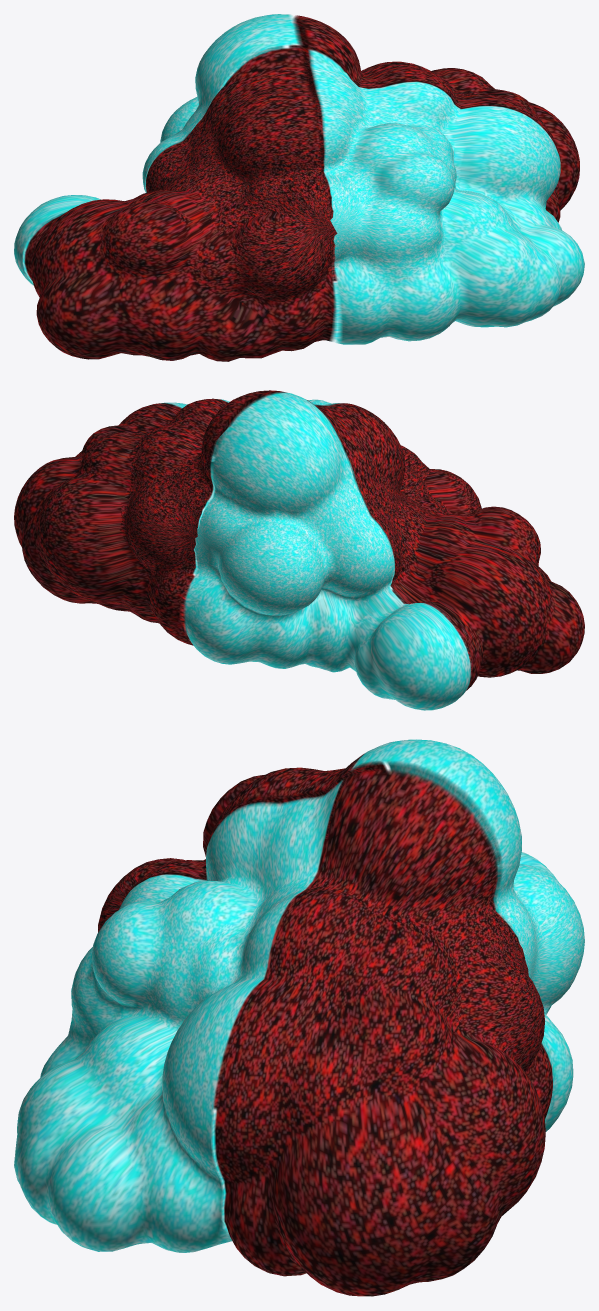
The picture shows the model from 3 angles, top to bottom: view 1: azimuth 30°, elevation 25°; view 2: azimuth 150°, elevation 25°; view 3: azimuth 270°, elevation 25°; orthographic projection. The views are drawn at different scales.
Parts seen in each view (by area): view 1: SM_VFX_Cloud_LOD0; view 2: SM_VFX_Cloud_LOD0; view 3: SM_VFX_Cloud_LOD0.
Part boxes in pixels (<box>): SM_VFX_Cloud_LOD0: <box>14,14,584,361</box>; SM_VFX_Cloud_LOD0: <box>14,390,584,710</box>; SM_VFX_Cloud_LOD0: <box>14,739,584,1296</box>.
Bounding box in the file's own units: 5 × 2.17 × 2.98.
1 material, 1 textured.
